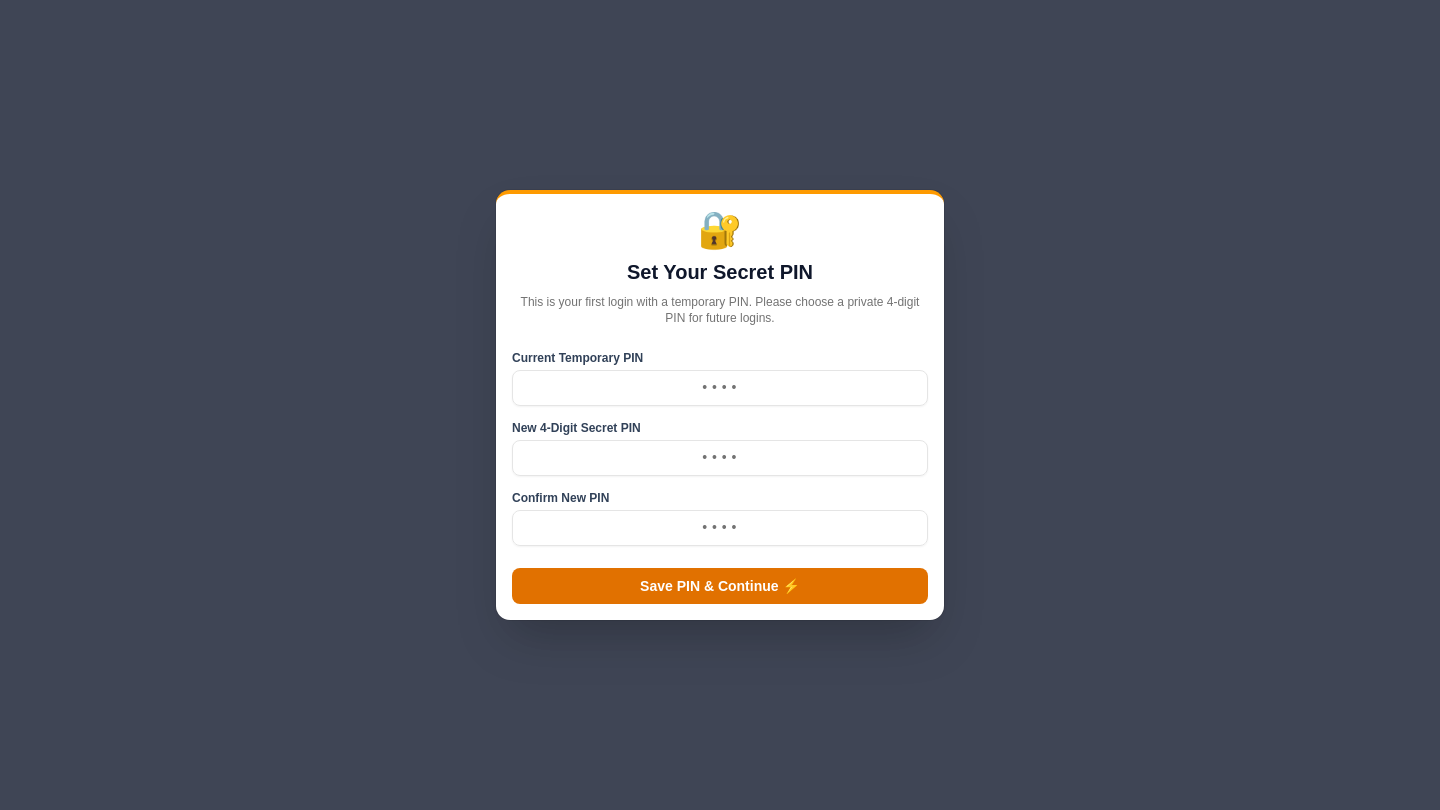
Scenario: Phase 9-3B: SetSecretPinModal Component › displays error if new PIN and confirm PIN mismatch
Step 1. Type "1234" into the password field labelled "Current Temporary PIN" → [720, 388], box [512, 370, 928, 406]
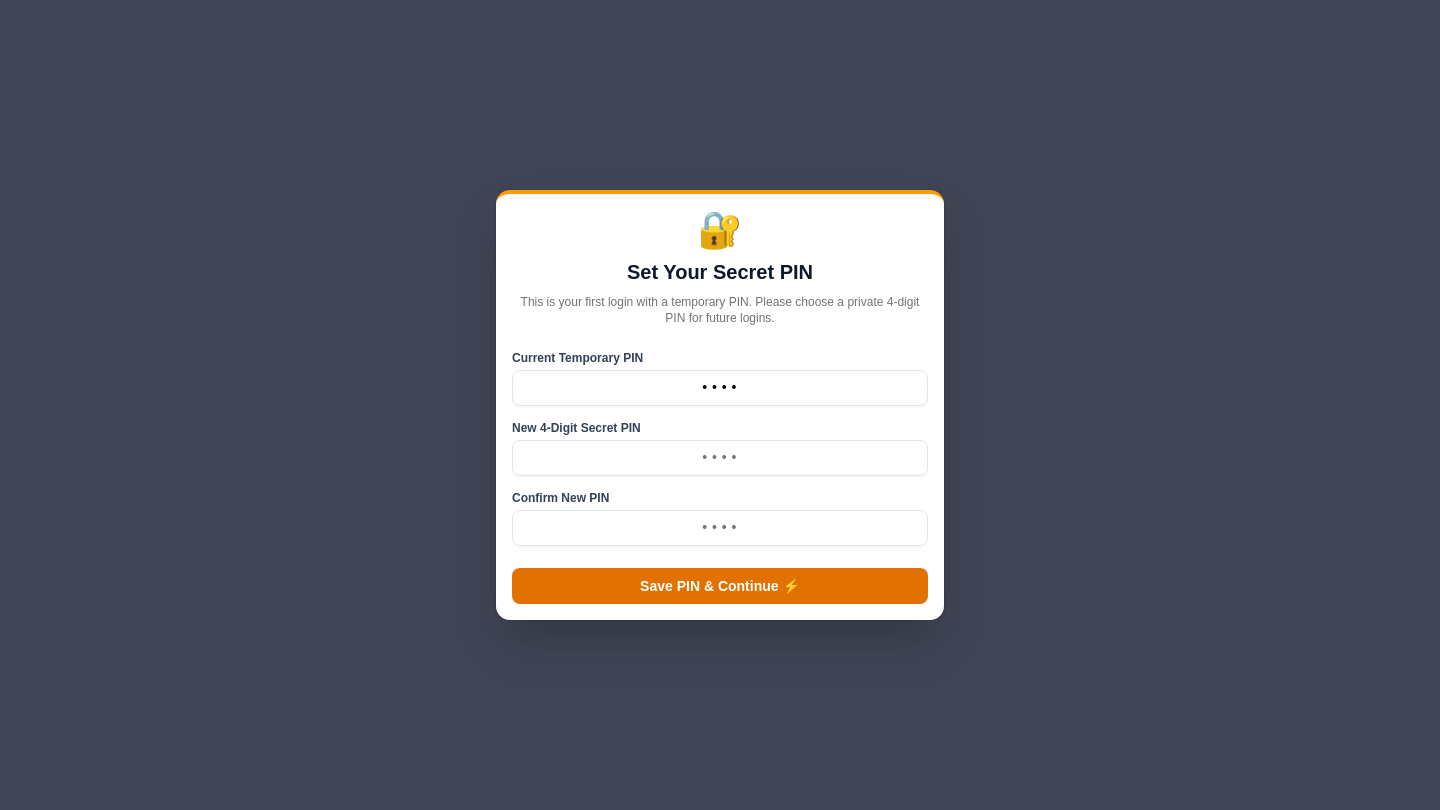
Step 2. Type "5678" into the password field labelled "New 4-Digit Secret PIN" → [720, 458], box [512, 440, 928, 476]
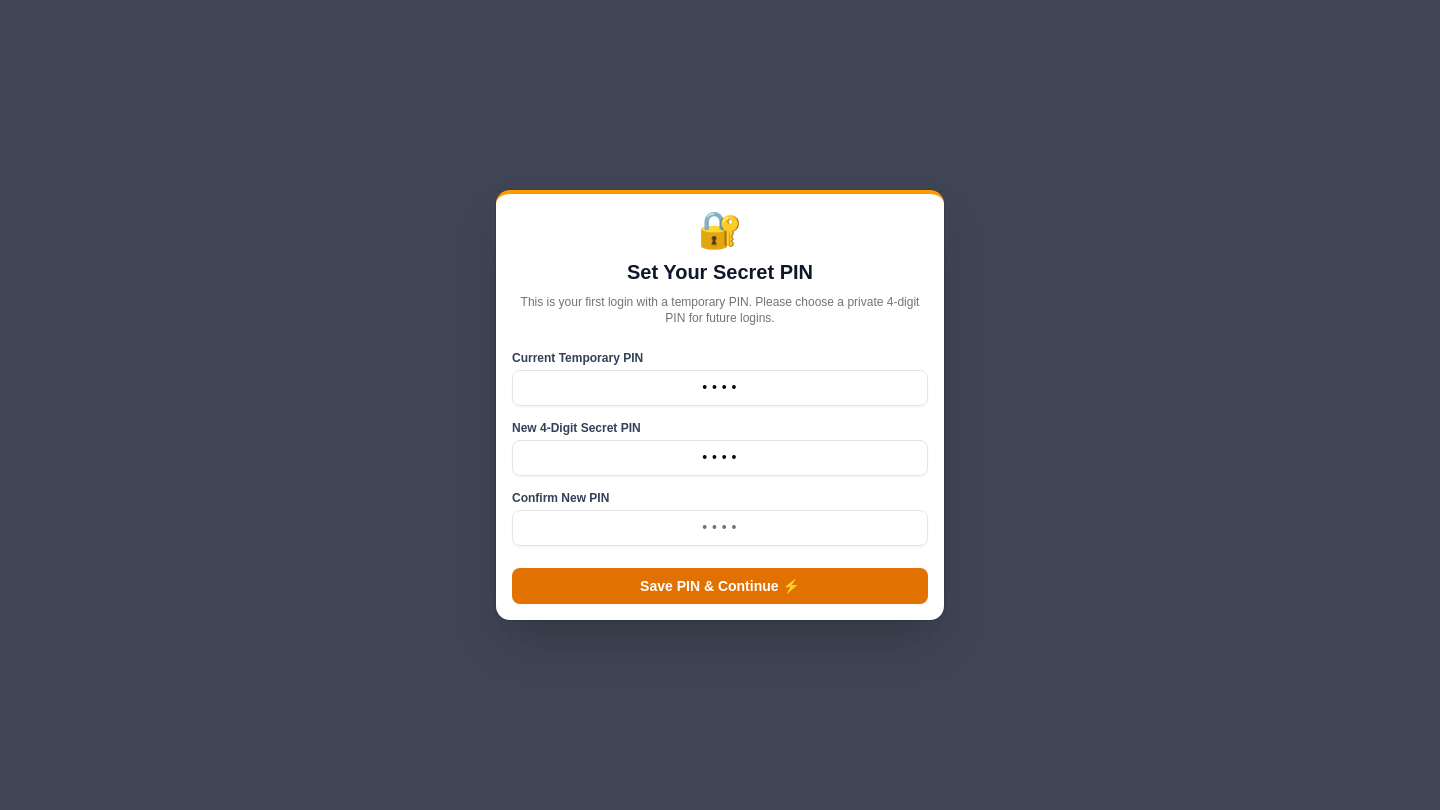
Step 3. Type "9999" into the password field labelled "Confirm New PIN" → [720, 528], box [512, 510, 928, 546]
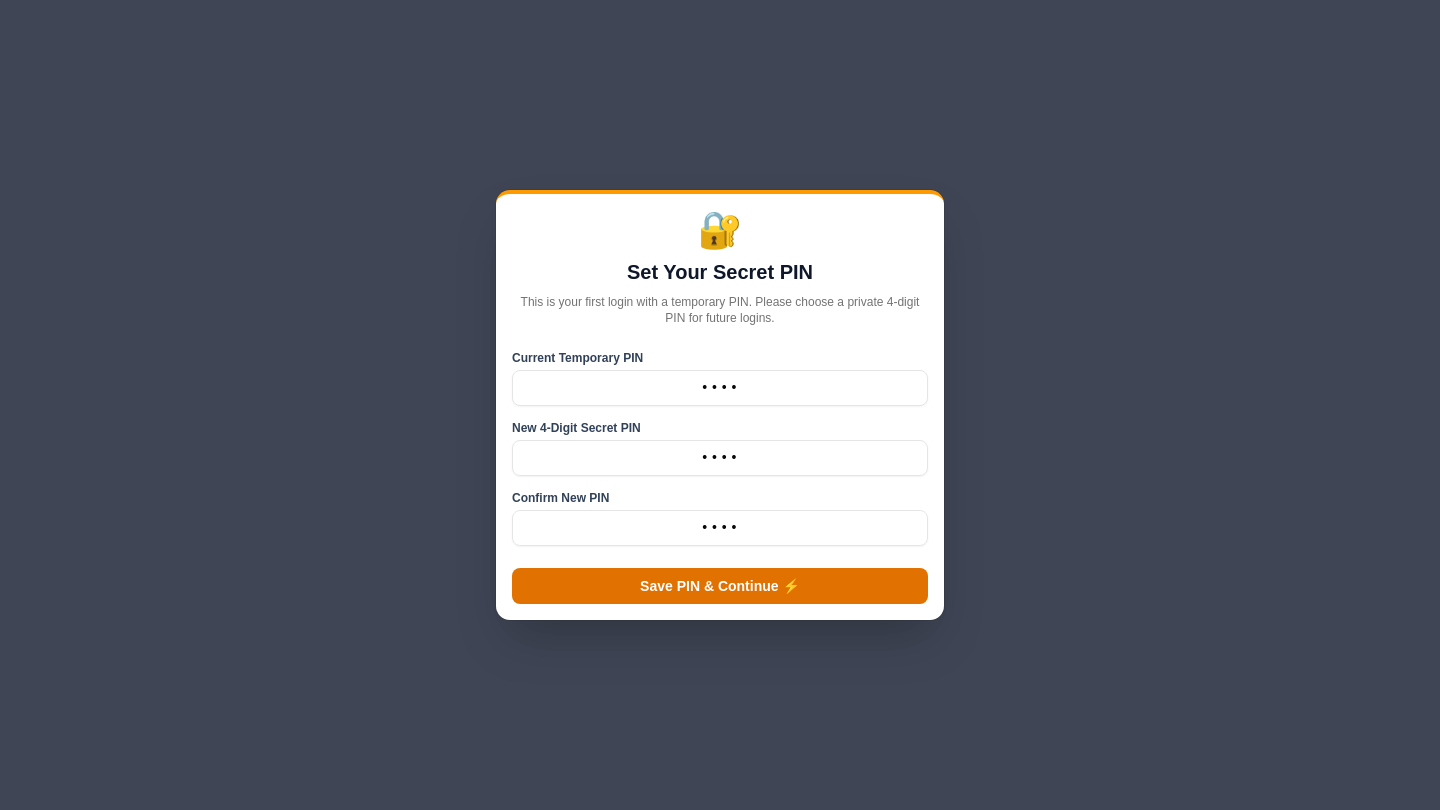
Step 4. Click the button "Save PIN & Continue ⚡" → [720, 586], box [512, 568, 928, 604]
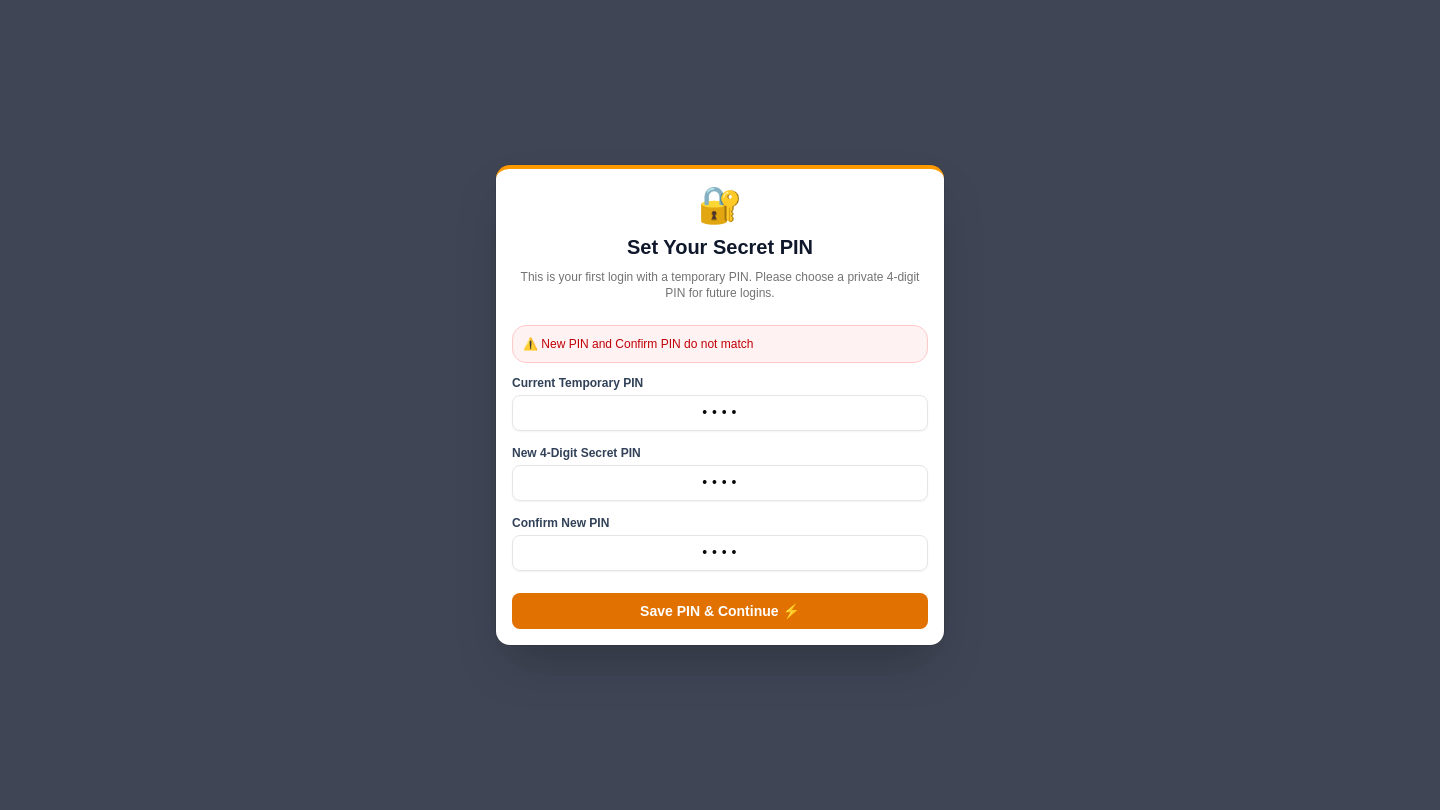
Expected: the text "⚠️ New PIN and Confirm PIN do not match" is shown, [512, 325, 928, 363]
